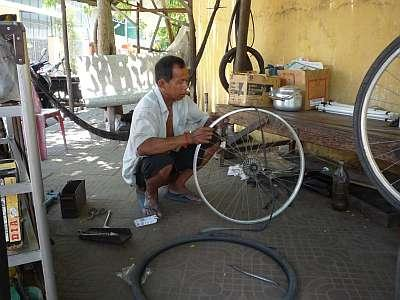person: (121, 56, 224, 221)
